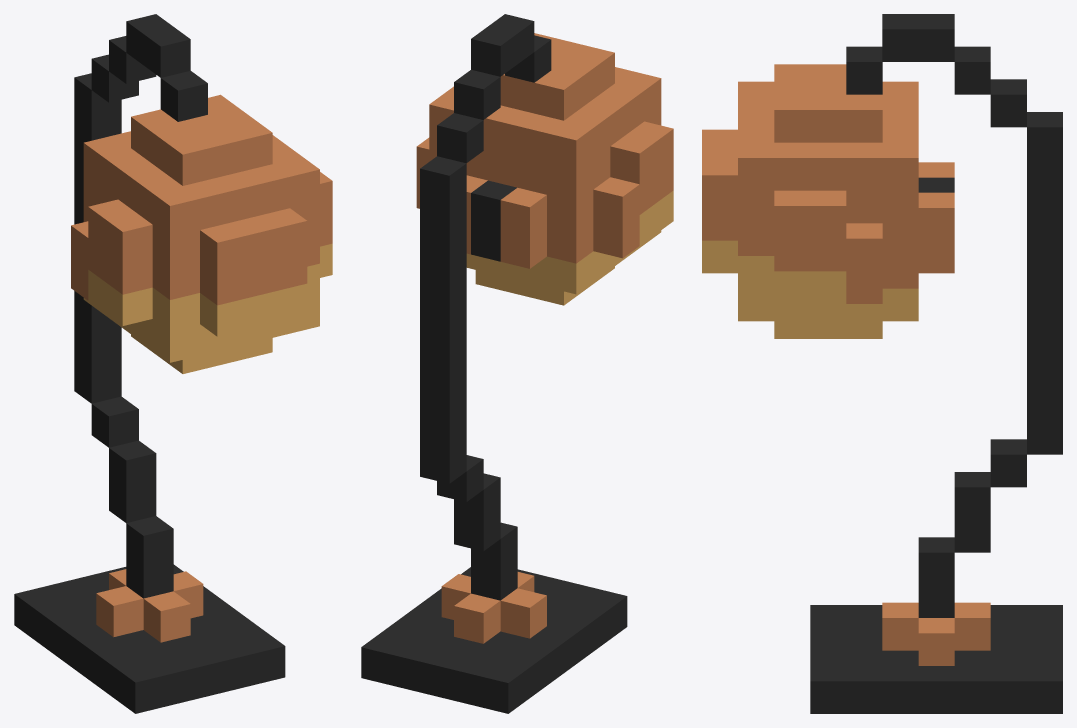
Rendered from Nha-11.obj.
The picture shows the model from 3 angles, left to right: view 1: azimuth 30°, elevation 25°; view 2: azimuth 150°, elevation 25°; view 3: azimuth 270°, elevation 25°; orthographic projection. The views are drawn at different scales.
Bounding box in the file's own units: 0.7 × 2 × 1.
Materials: 1 (1 with a texture image).
